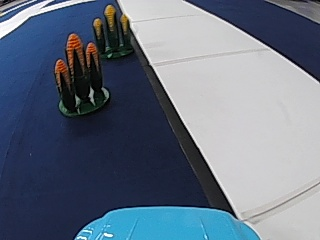corn: (53, 31, 110, 118), (91, 4, 134, 58)
